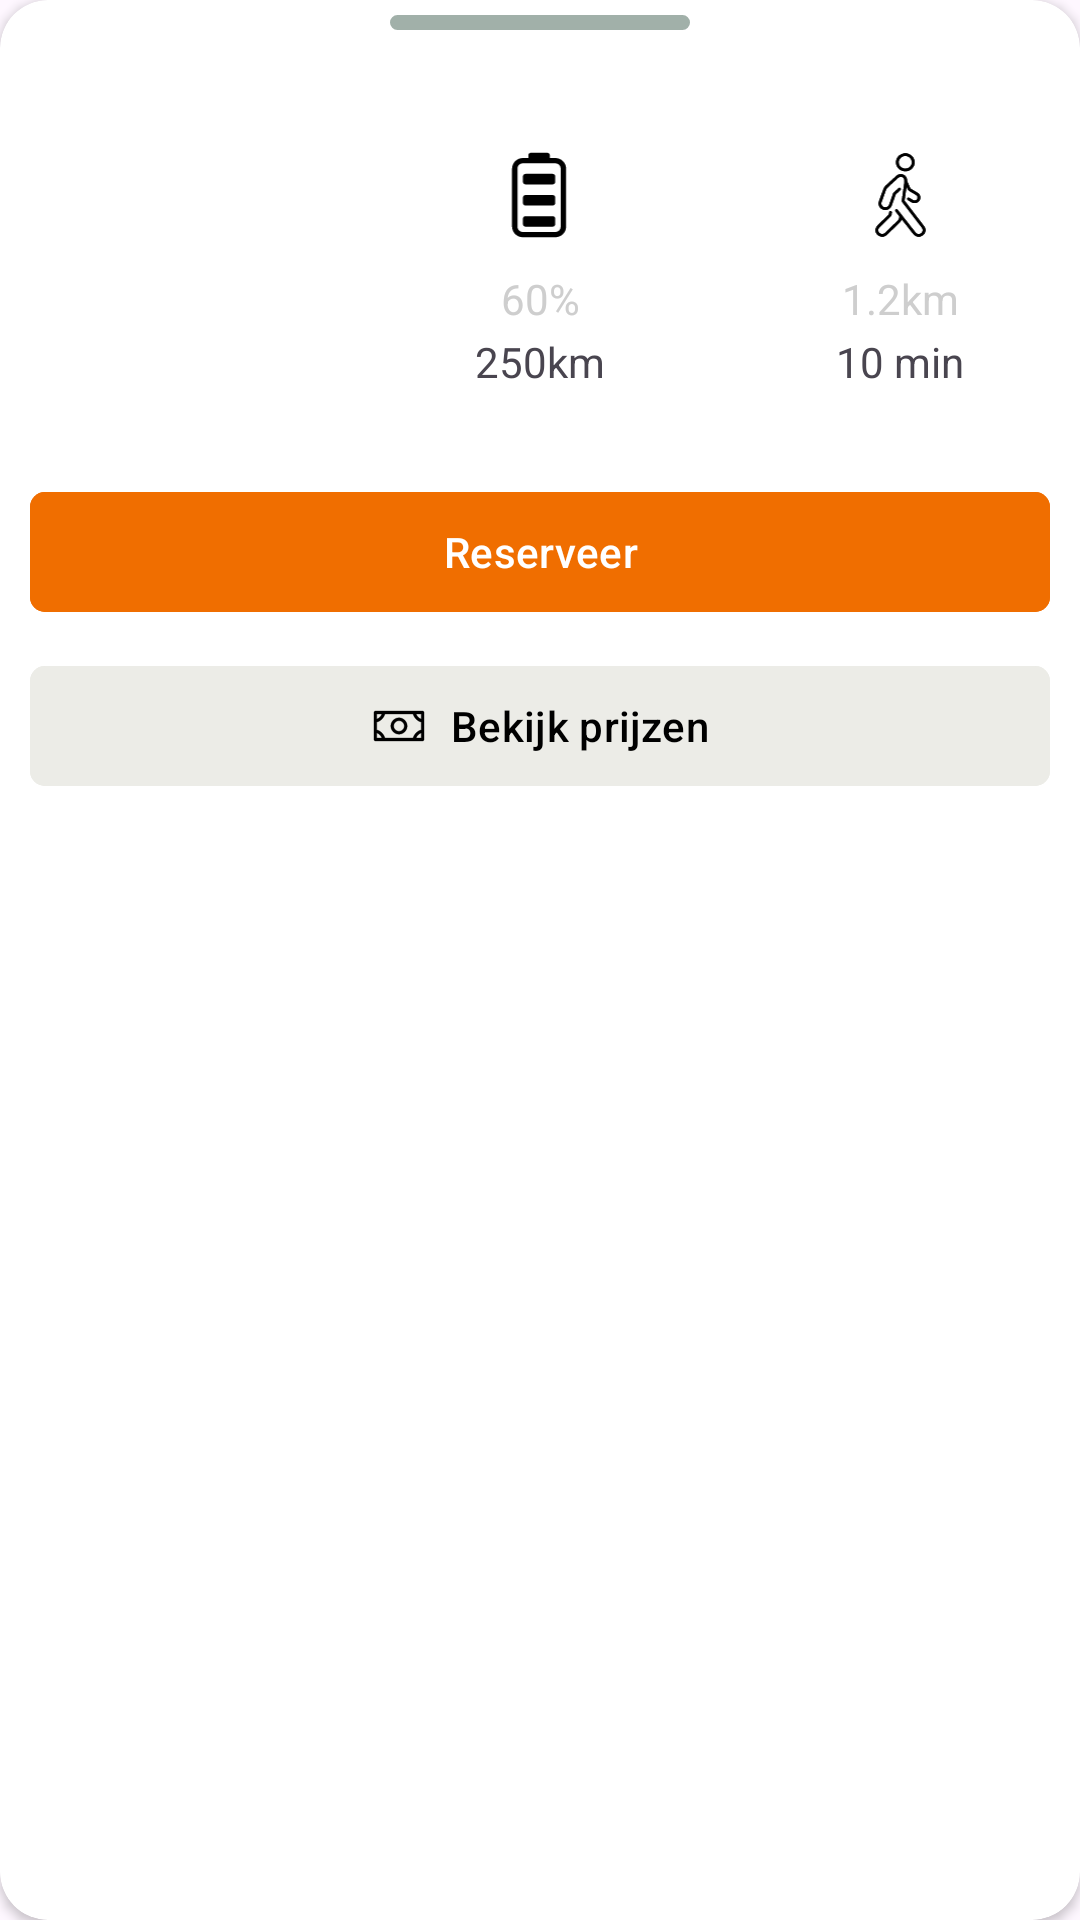

Icon bounding boxes for this 1080px x 1920px phone screenshot, format bbox=(x1, y1, x2, y2):
battery: bbox=(511, 152, 567, 238)
walking: bbox=(875, 153, 926, 237)
